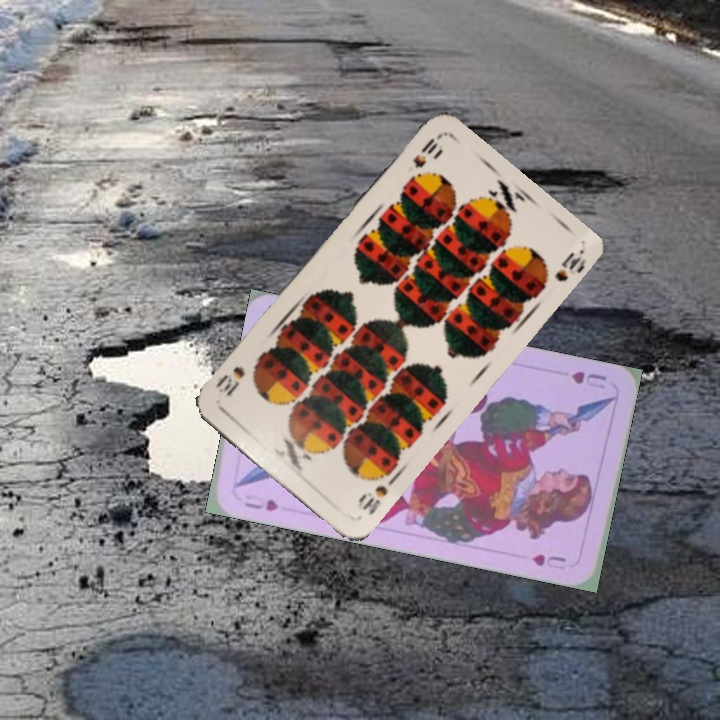HU: (566, 367, 609, 392), (241, 489, 281, 514)
S10: (352, 472, 399, 518), (409, 134, 441, 171)
